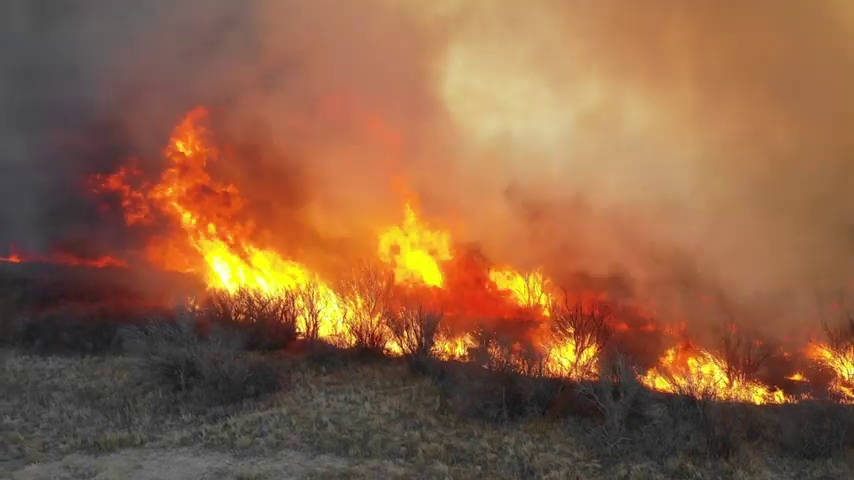forest_fire: (90, 107, 656, 378), (638, 335, 800, 402), (806, 342, 853, 401), (3, 252, 124, 264), (433, 327, 477, 359), (384, 336, 404, 351), (301, 311, 306, 329), (798, 372, 805, 380), (298, 300, 307, 306), (512, 356, 522, 360), (659, 330, 666, 335), (512, 338, 519, 341), (517, 344, 520, 350), (520, 353, 521, 354)
